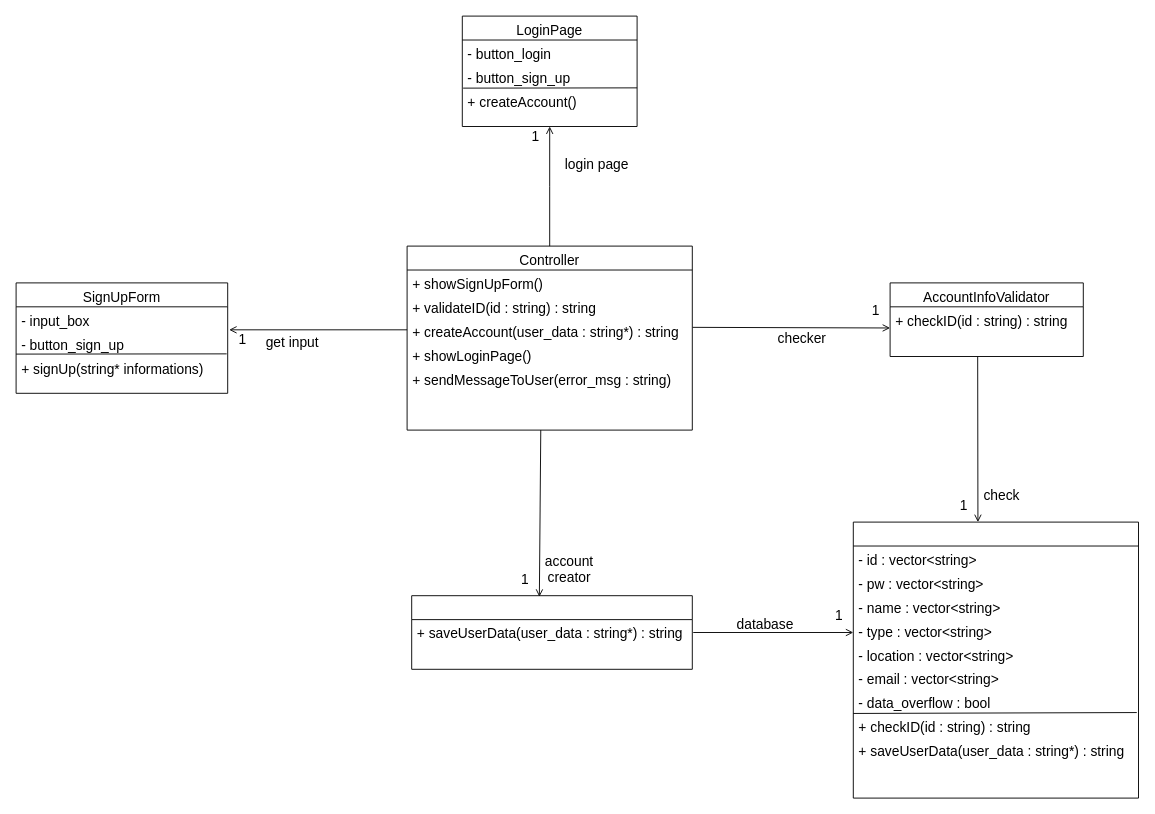
The diagram is 1155 pixels wide and 814 high, and some of its shapes have lost their labels. The box of each missing label's shape, as (x1, y1, x2, y2) in pixels:
AccountGenerator: (411, 595, 692, 669)
UserDatabase: (852, 521, 1138, 798)
